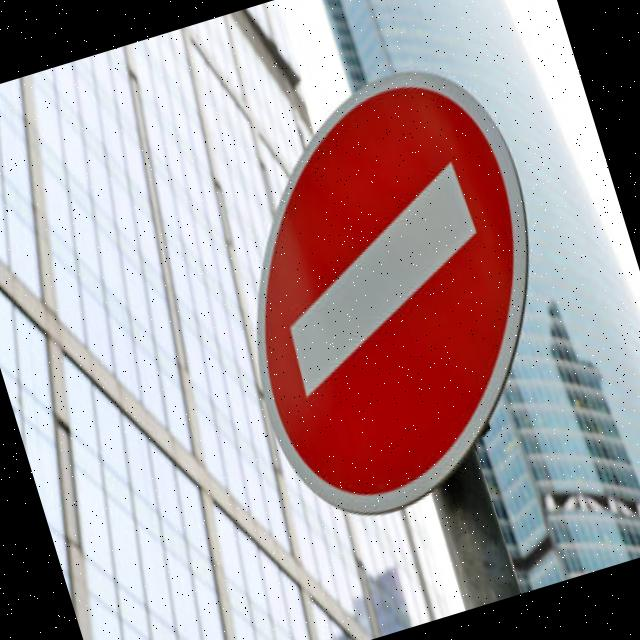do_not_enter: (170, 51, 609, 568)
